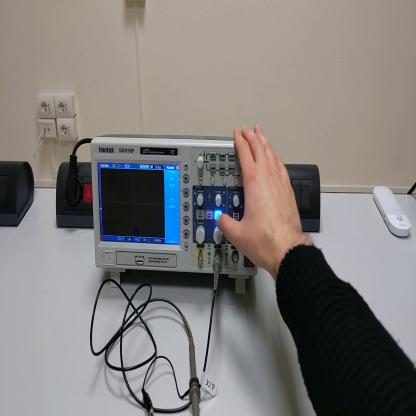hand: (214, 123, 305, 274)
oscilloscope: (92, 135, 258, 296)
oscilloscope probe tip: (182, 318, 201, 416)
socket: (56, 160, 94, 231), (1, 158, 35, 229)
